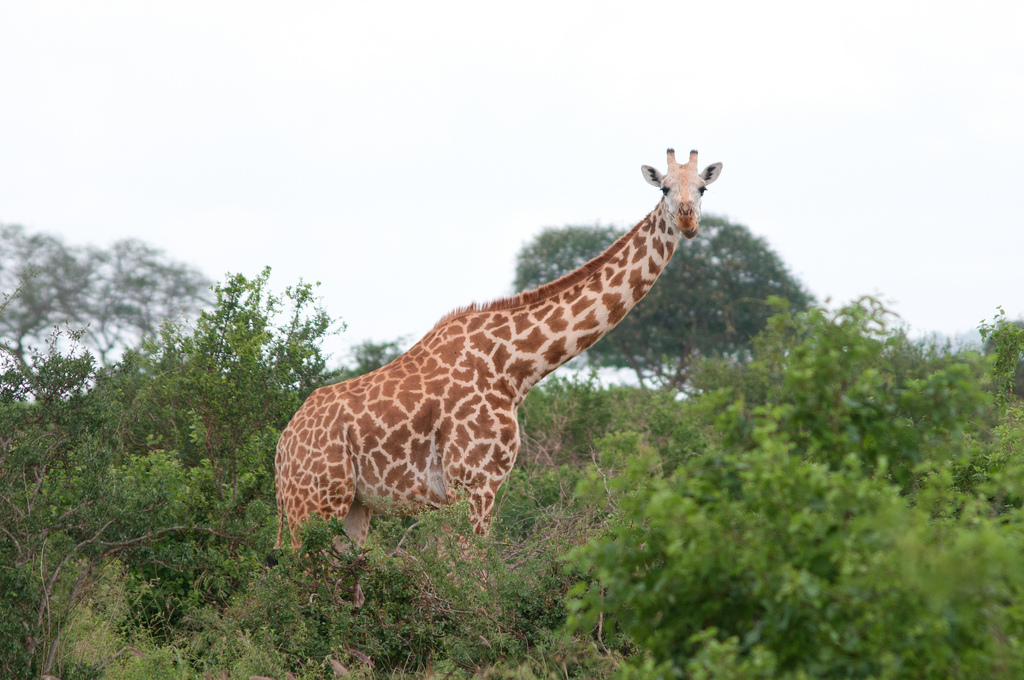giraffe: (252, 126, 741, 597)
